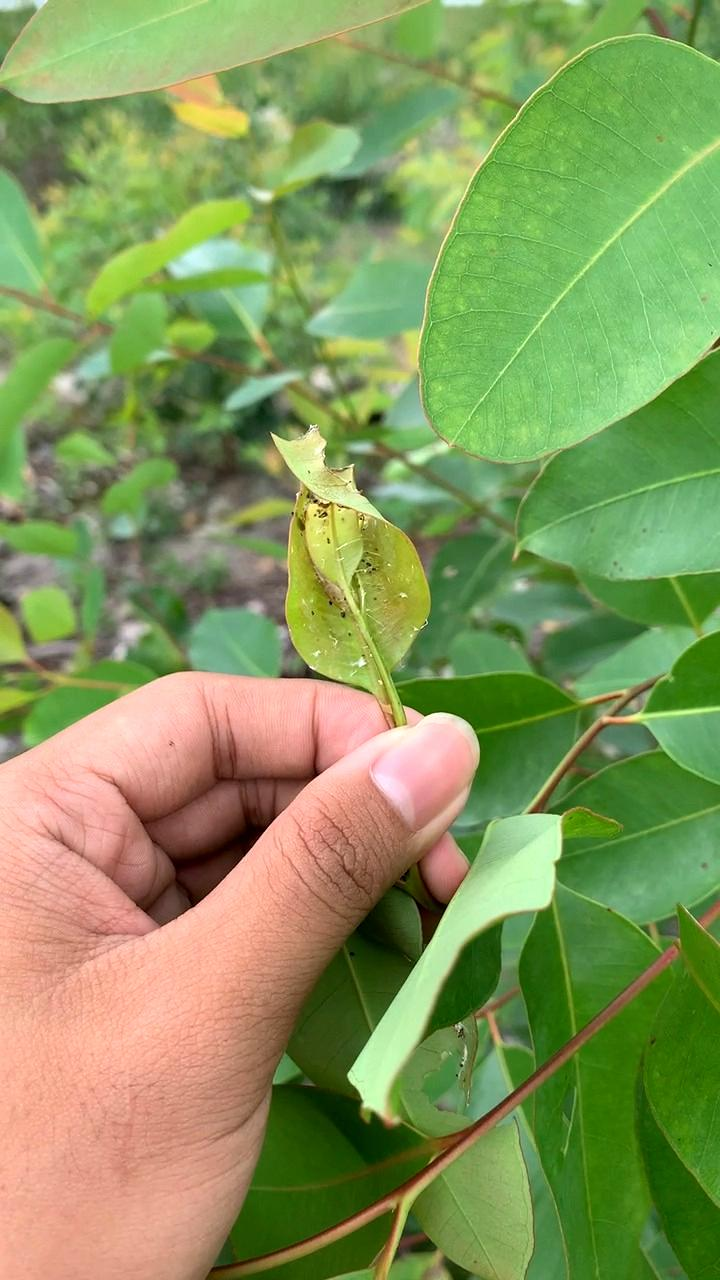Leaf Roller - Leaf: (263, 413, 459, 713)
